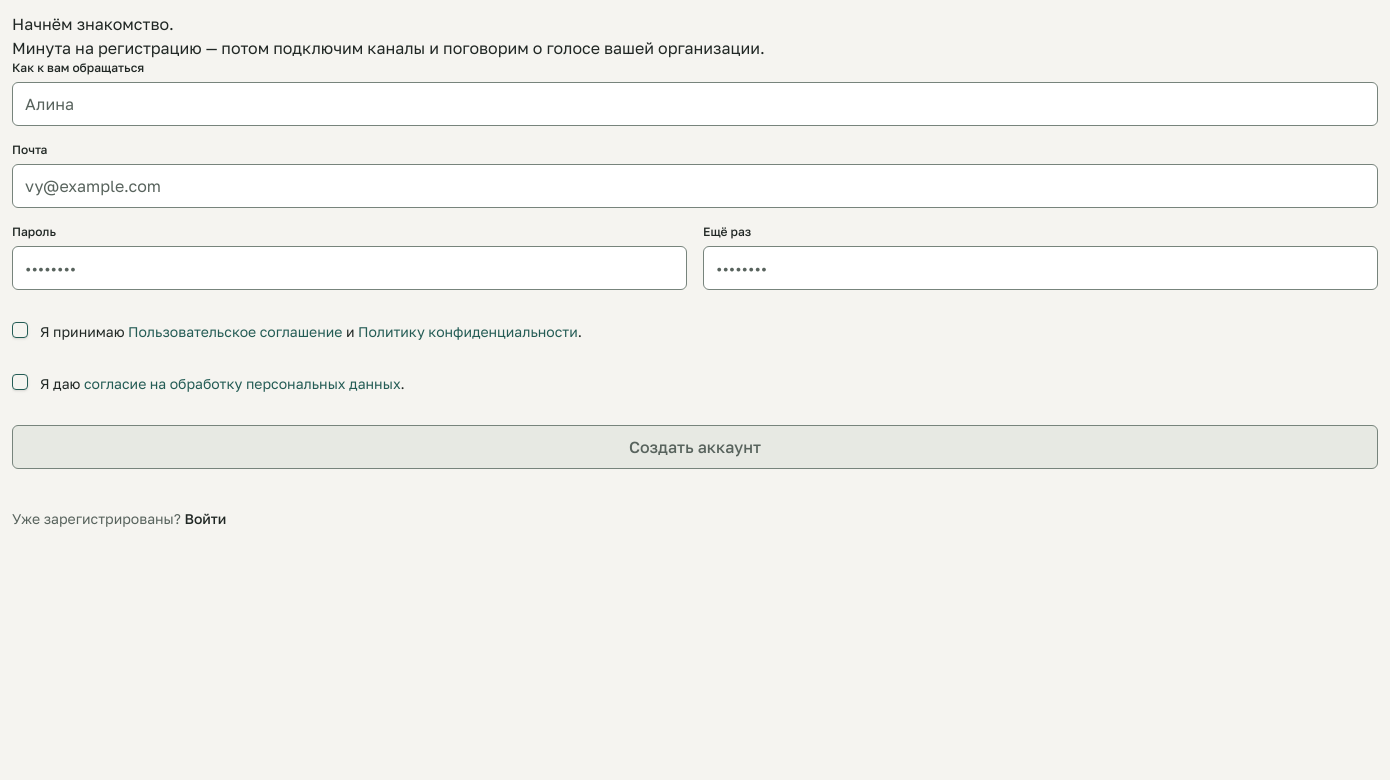
maps an unapproved invitation email to the waitlist action
Type "Owner" into the field with id "name" at (695, 104), box [12,82,1378,126]
Type "owner@example.org" into the field with id "email" at (695, 186), box [12,164,1378,208]
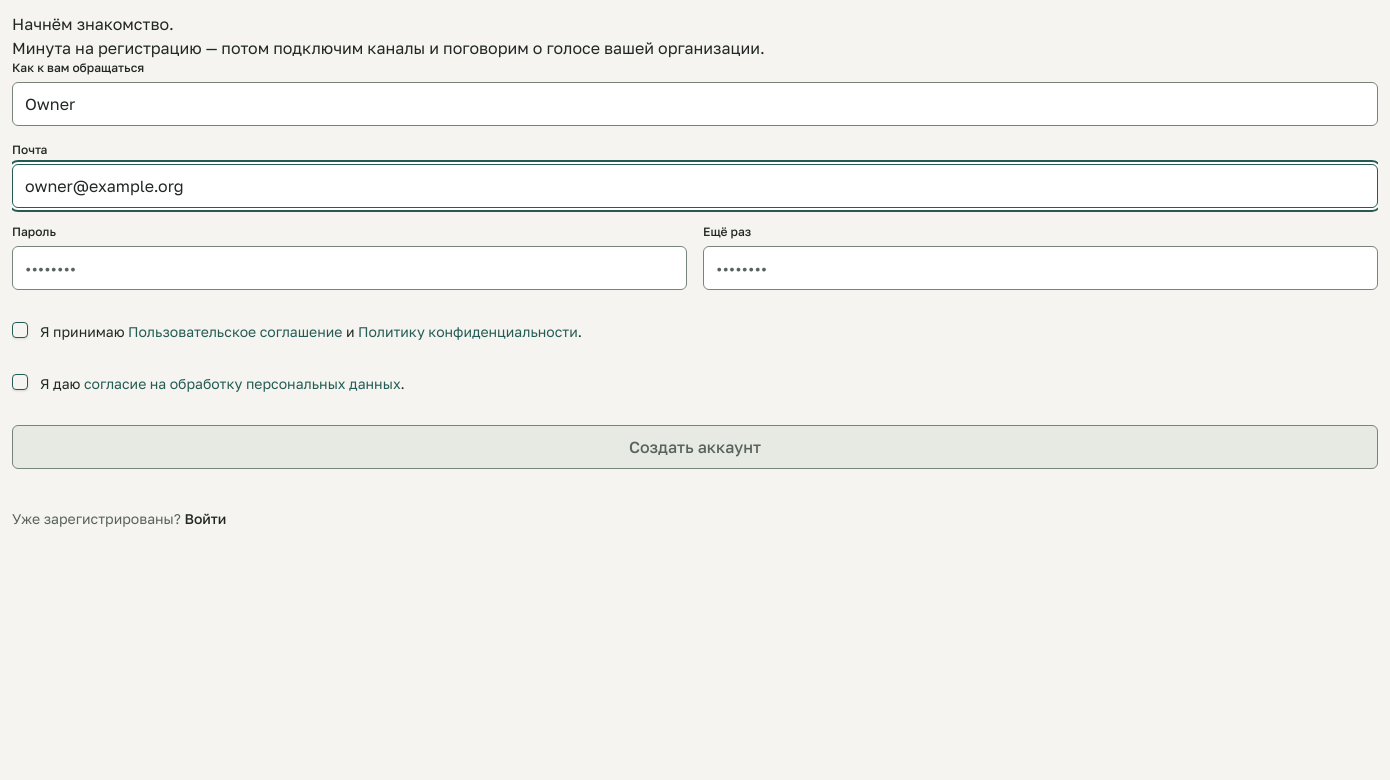
Type "12345678" into the password field labelled "Пароль" at (350, 268), box [12,246,687,290]
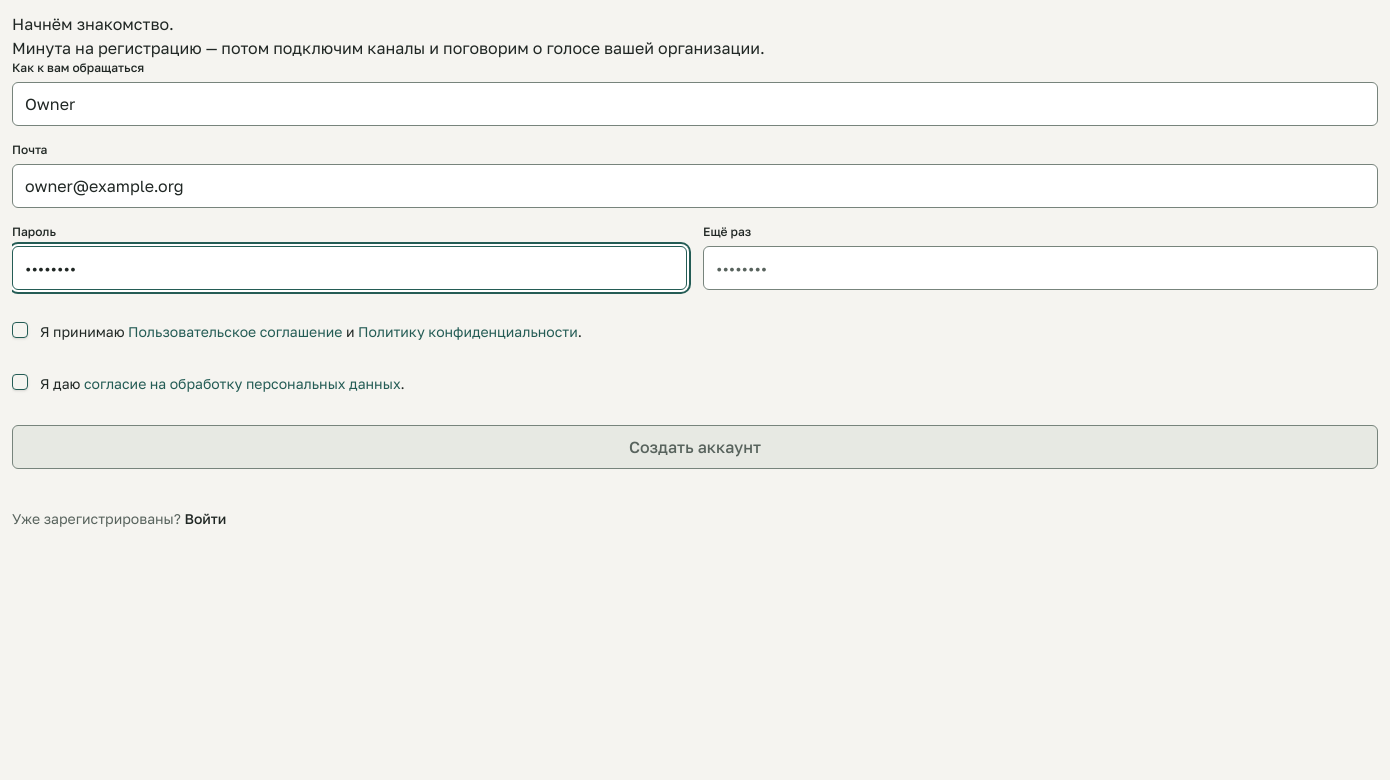
Type "12345678" into the password field with id "confirmPassword" at (1040, 268), box [703,246,1378,290]
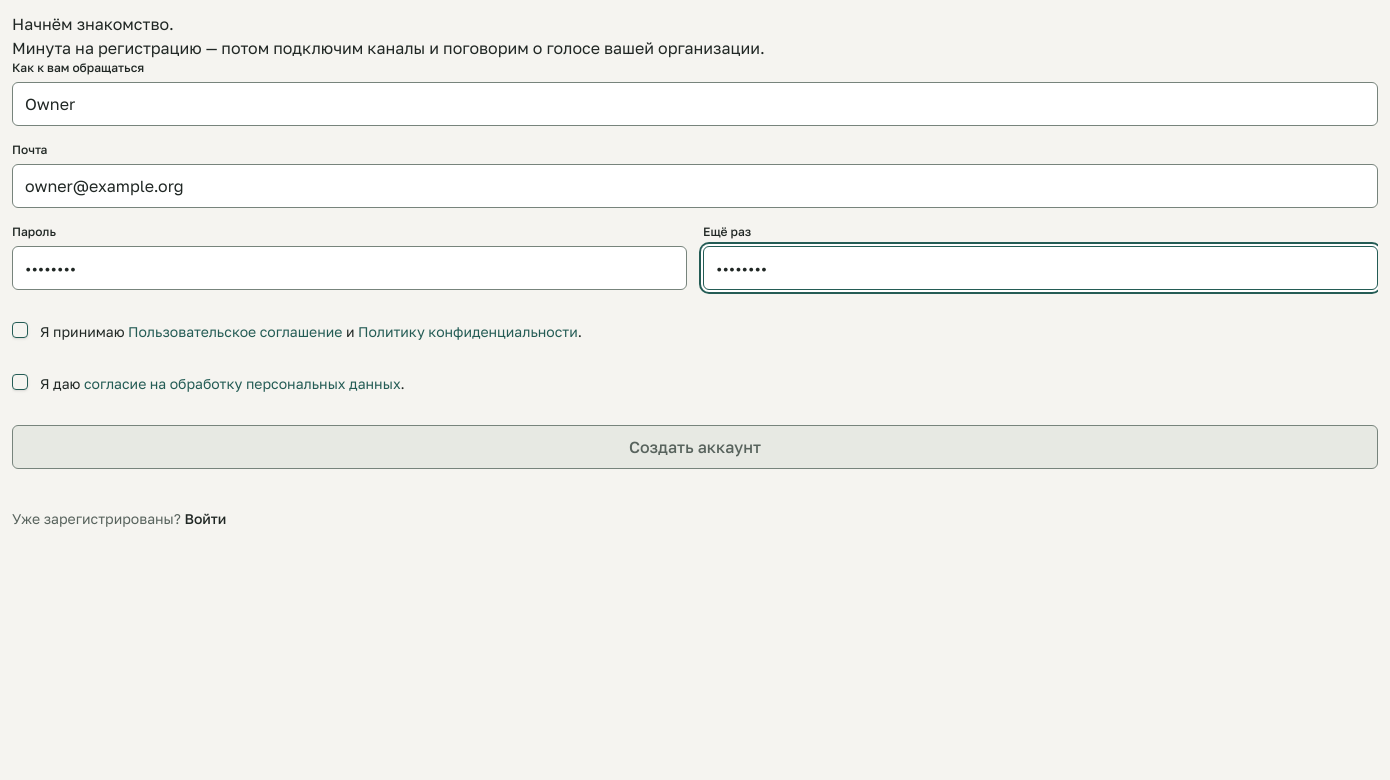
Click the checkbox next to "Я принимаю" at (20, 330), box [12,322,28,338]
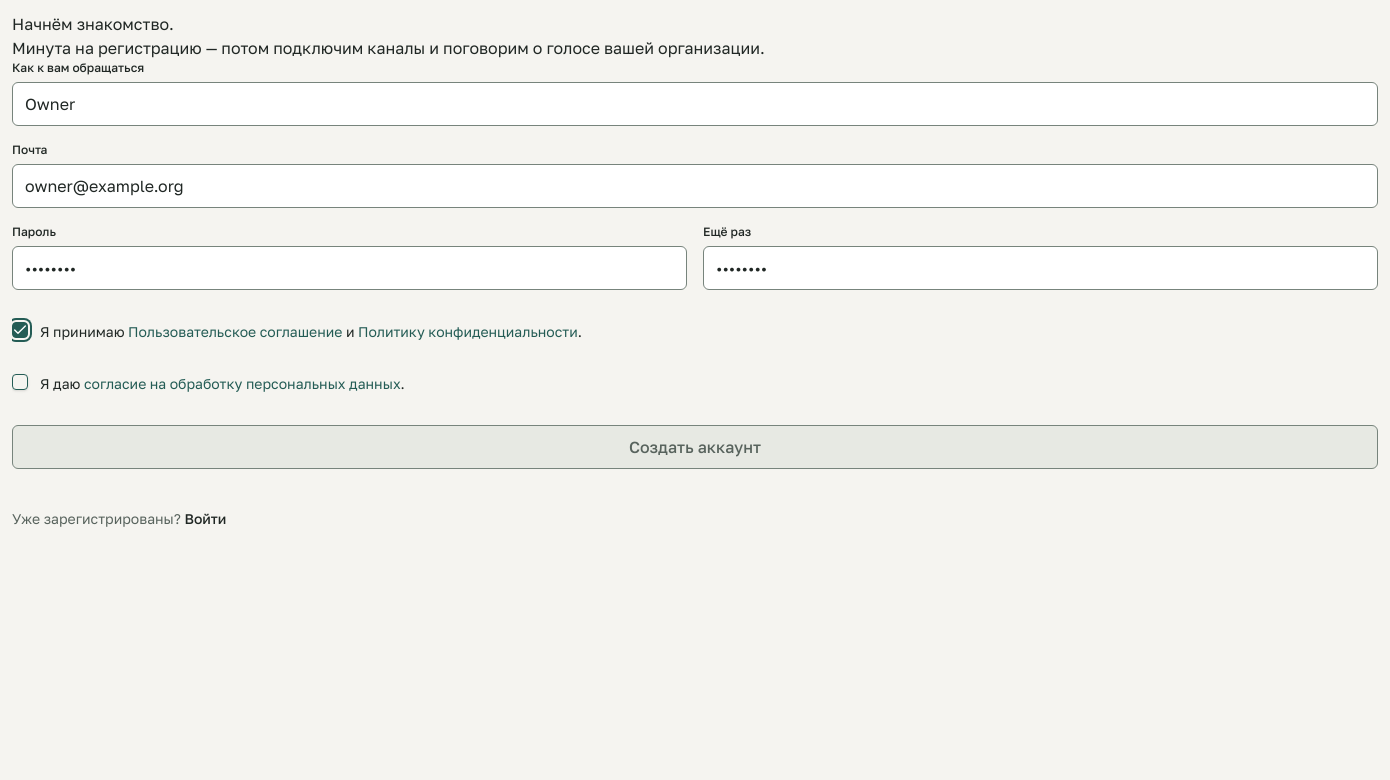
Click the checkbox next to "Я даю" at (20, 382), box [12,374,28,390]
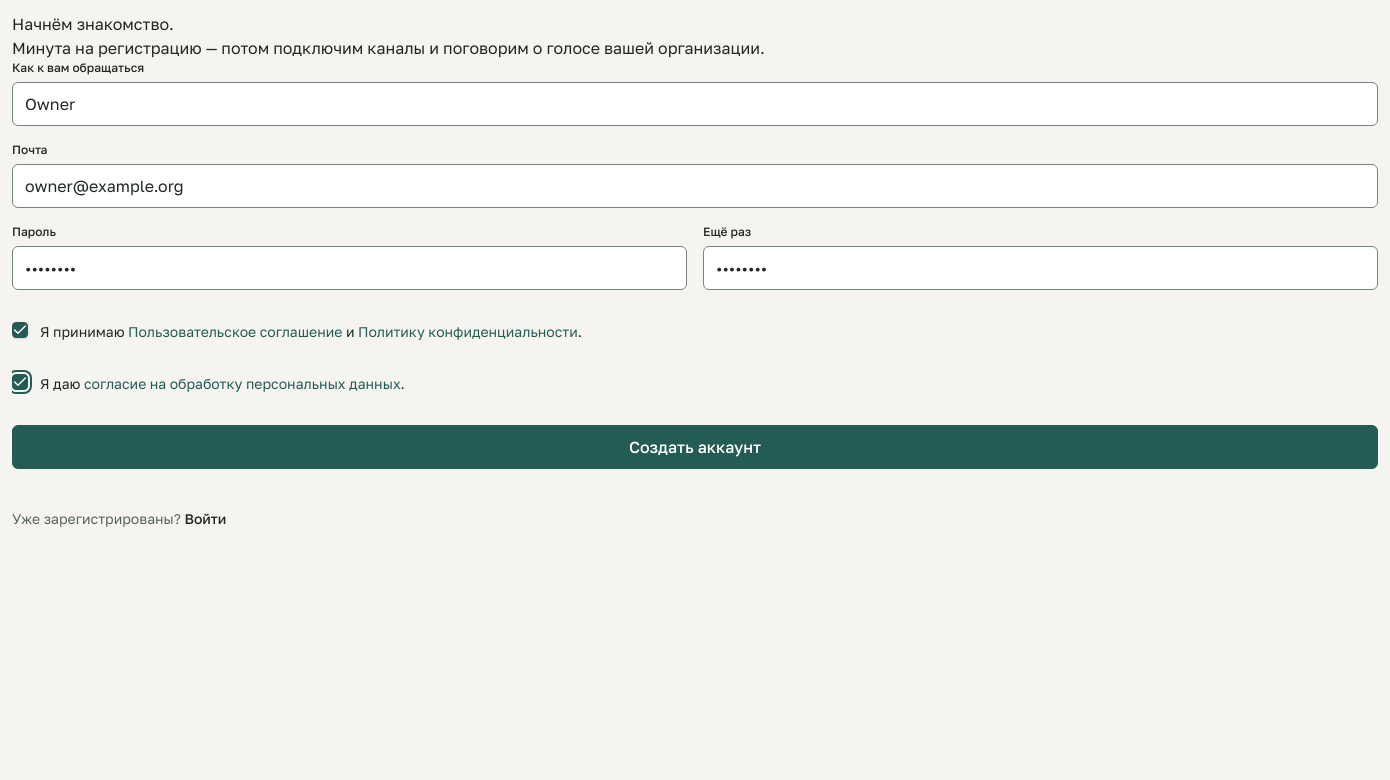
Click the submit button at (695, 447), box [12,425,1378,469]
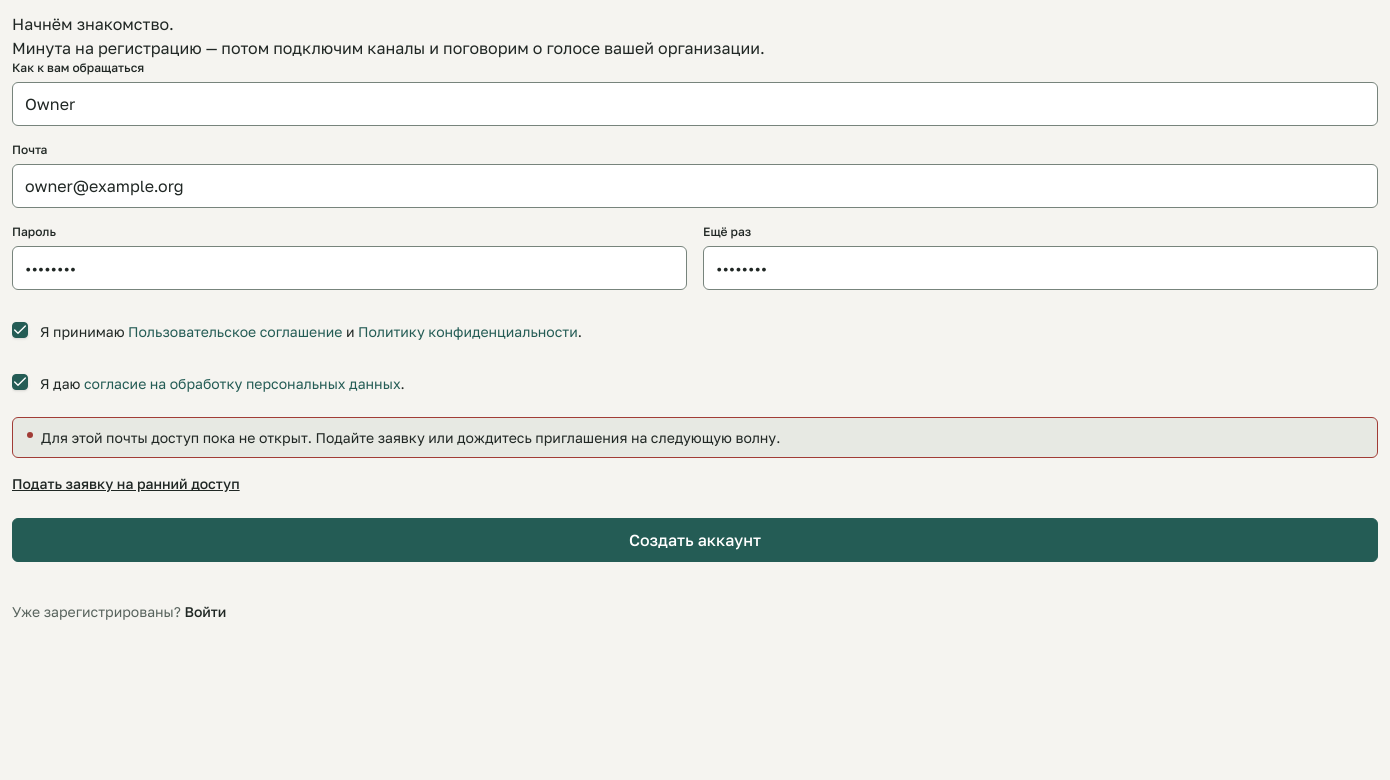
Expected: the text "Для этой почты доступ пока не открыт. Подайте заявку или дождитесь приглашения на следующую волну." is shown, [41,429,780,446]
